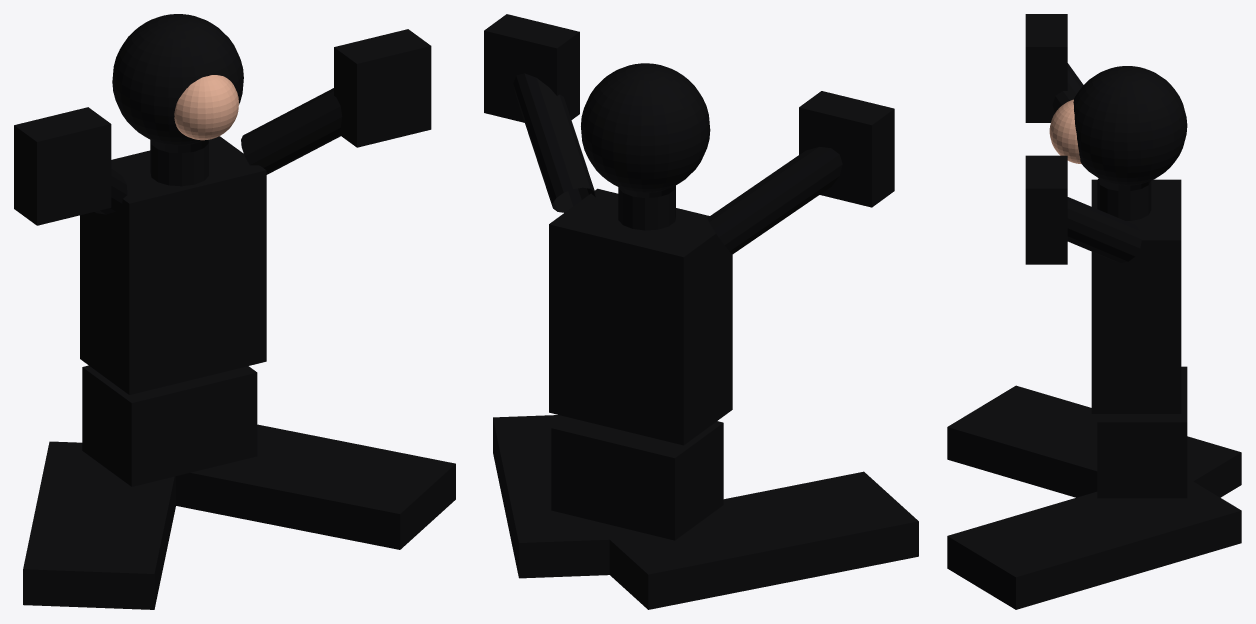
Rendered from goalie.obj.
3 renders of one model, left to right at view 1: azimuth 30°, elevation 25°; view 2: azimuth 150°, elevation 25°; view 3: azimuth 270°, elevation 25°, orthographic. The views are drawn at different scales.
Bounding box in the file's own units: 758 × 815 × 492.
